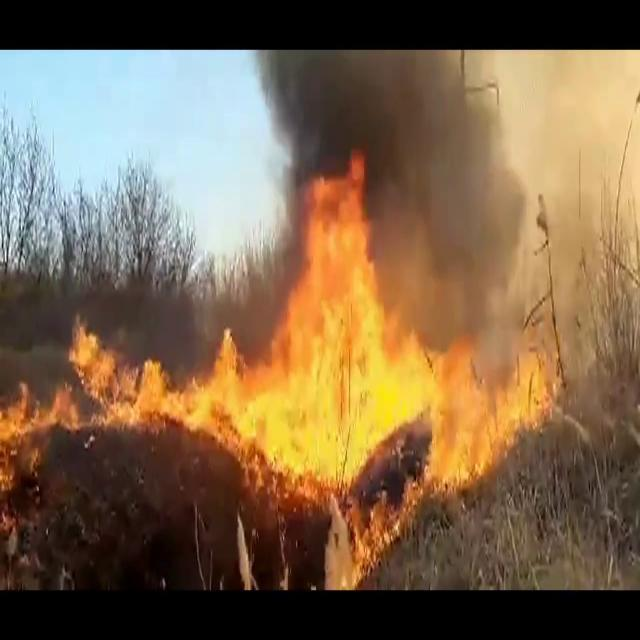Fire: (198, 150, 558, 549), (1, 316, 259, 450)
Smoke: (360, 56, 640, 366), (244, 51, 548, 222)
